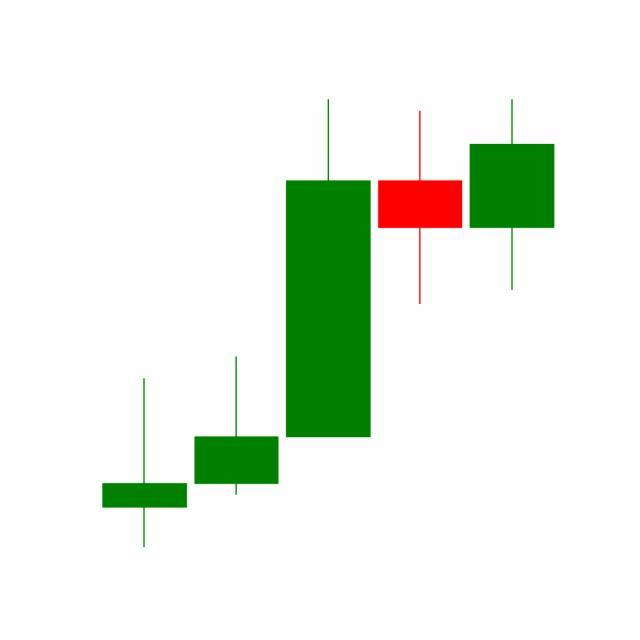Spinning Top: (374, 109, 468, 308)
